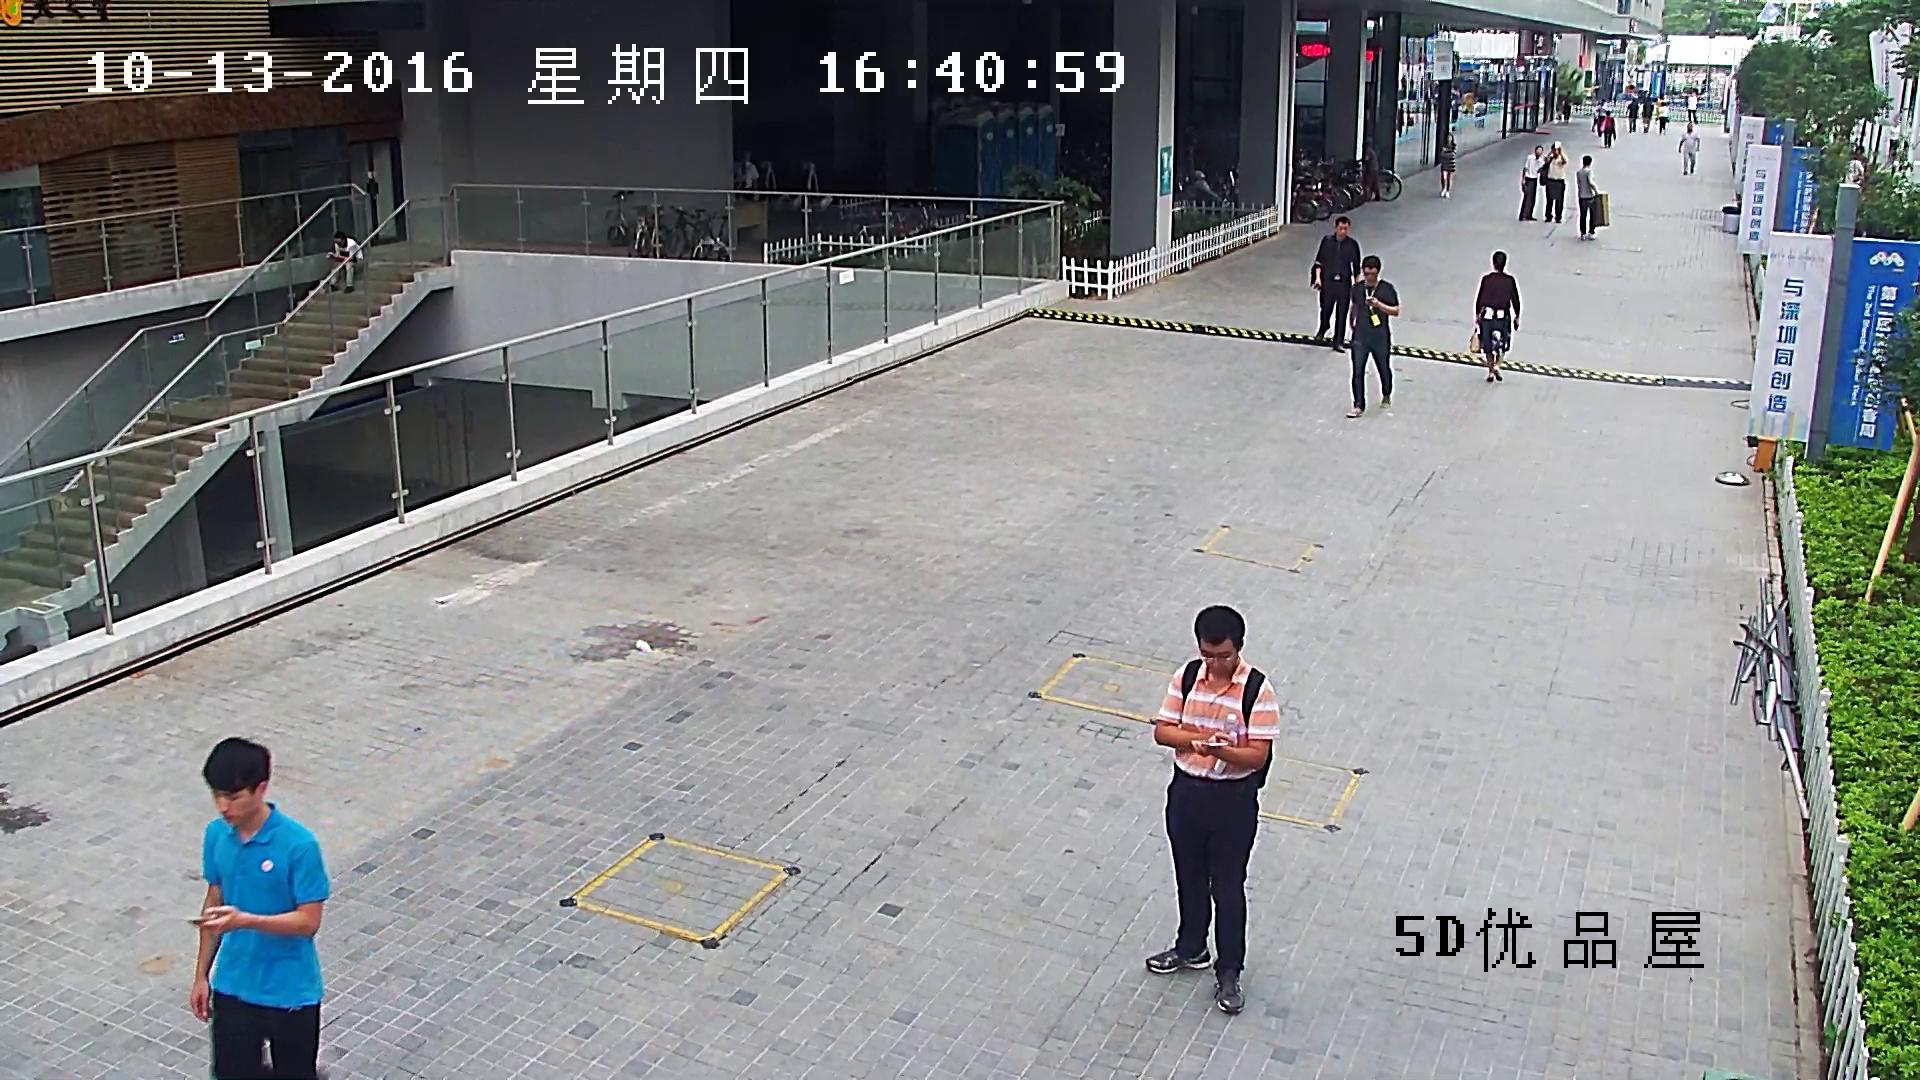person: (1145, 606, 1280, 1015), (180, 736, 329, 1080), (1346, 255, 1399, 417), (1310, 216, 1360, 353), (1470, 250, 1520, 381), (1576, 155, 1609, 239), (325, 232, 364, 293), (1518, 145, 1545, 221), (1576, 156, 1598, 238), (1545, 141, 1566, 222), (730, 149, 759, 201), (1677, 122, 1700, 175), (1361, 142, 1381, 201), (1439, 133, 1456, 197), (1598, 109, 1615, 148), (1641, 96, 1653, 133), (1560, 88, 1573, 123), (1626, 98, 1638, 133), (1658, 101, 1669, 134), (1597, 97, 1606, 136), (1686, 91, 1697, 123), (1591, 100, 1599, 132)
